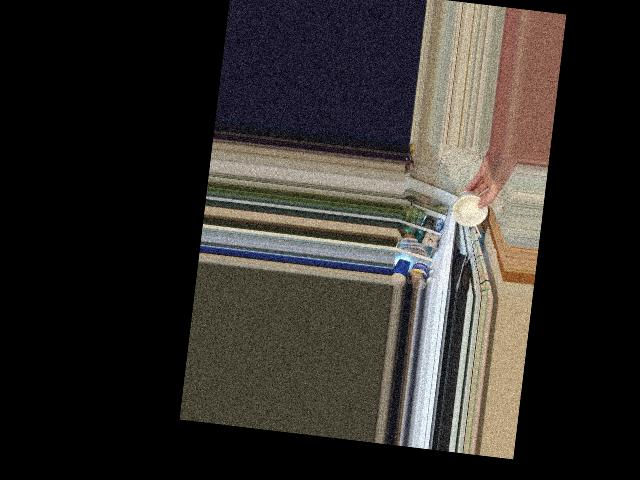cotage: (451, 187, 486, 229)
